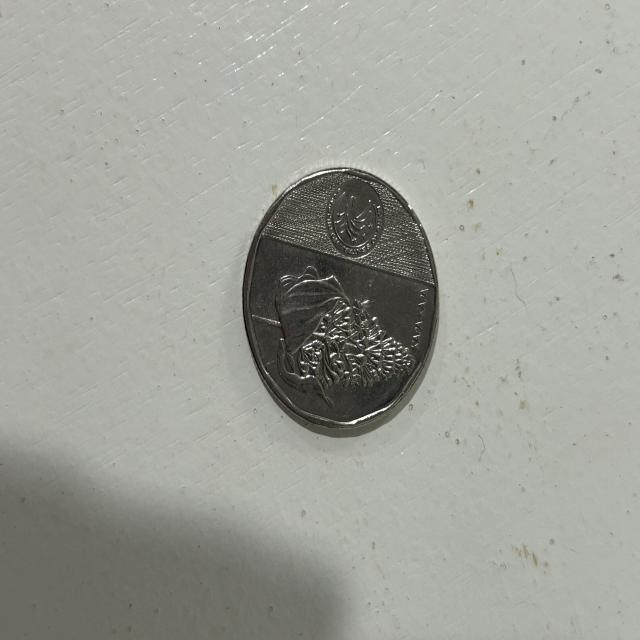10_New_Back: (263, 174, 420, 404)
